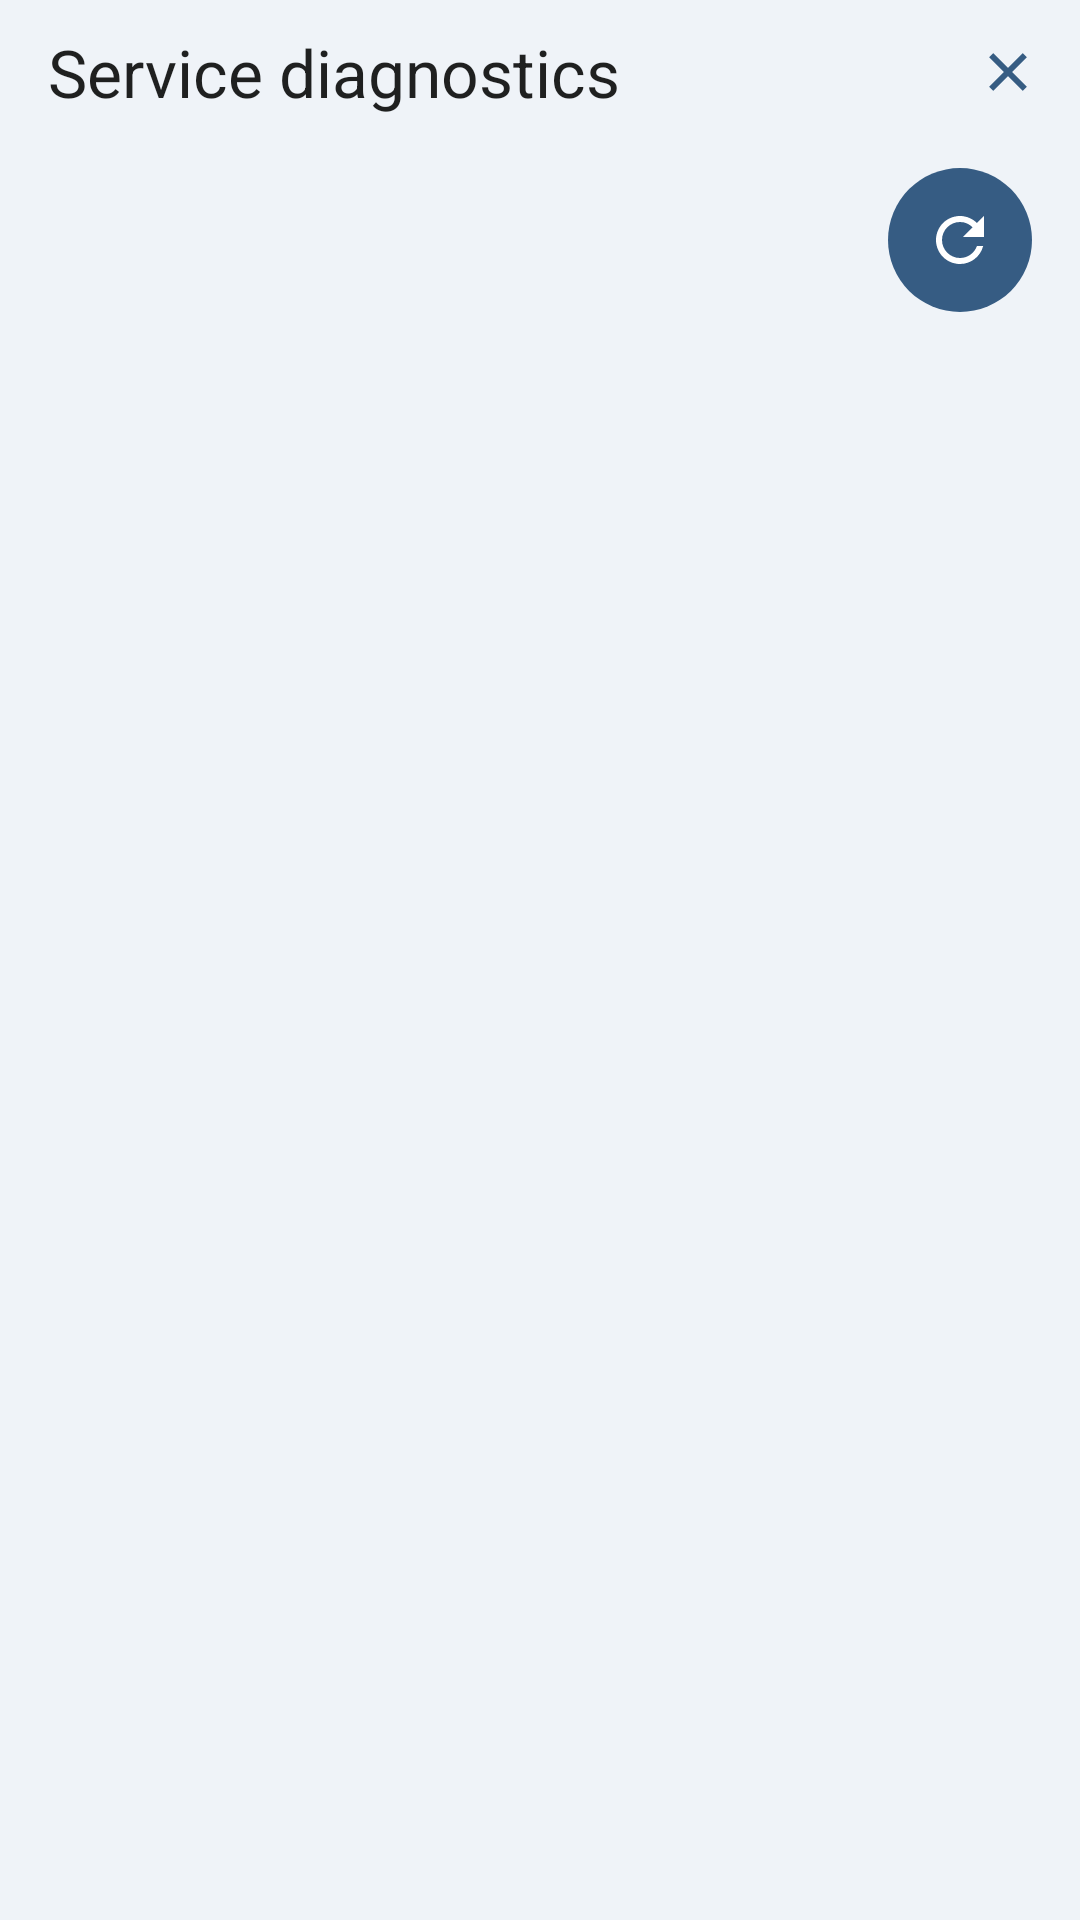

Locate icon controls on the screen. Image size 1080x1920, boxes as (x1, y1, x2, y2).
Run checks again: (888, 168, 1032, 312)
